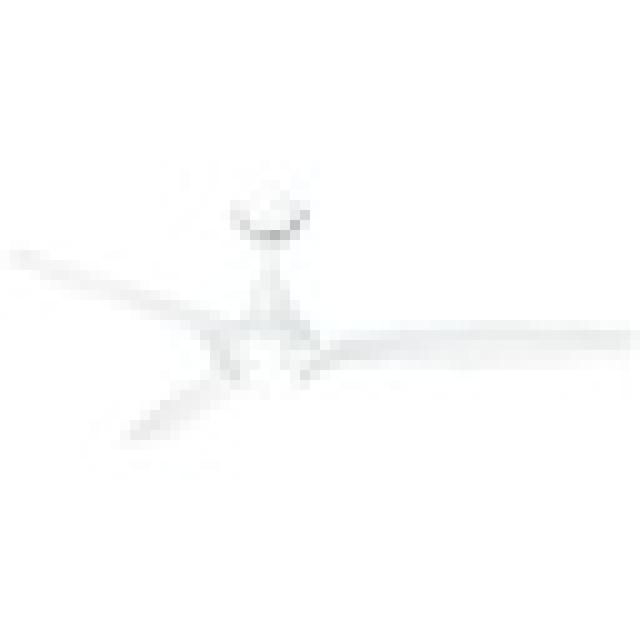Bulb: (35, 197, 623, 488)
